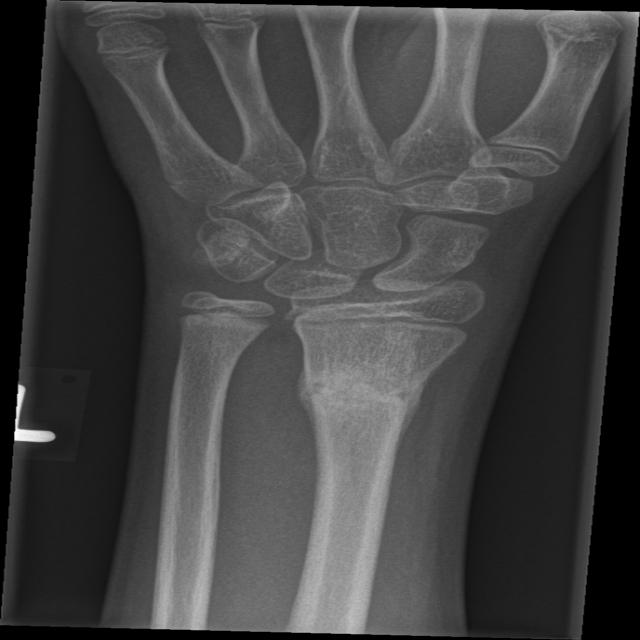radius fracture: (279, 338, 455, 528)
